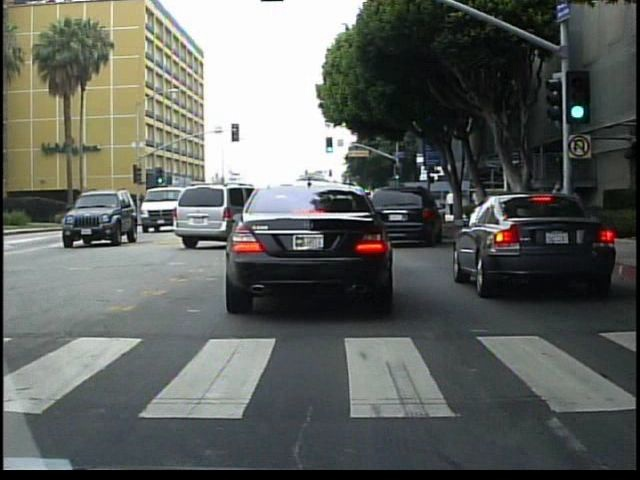person: (558, 175, 577, 235), (445, 187, 458, 219)
